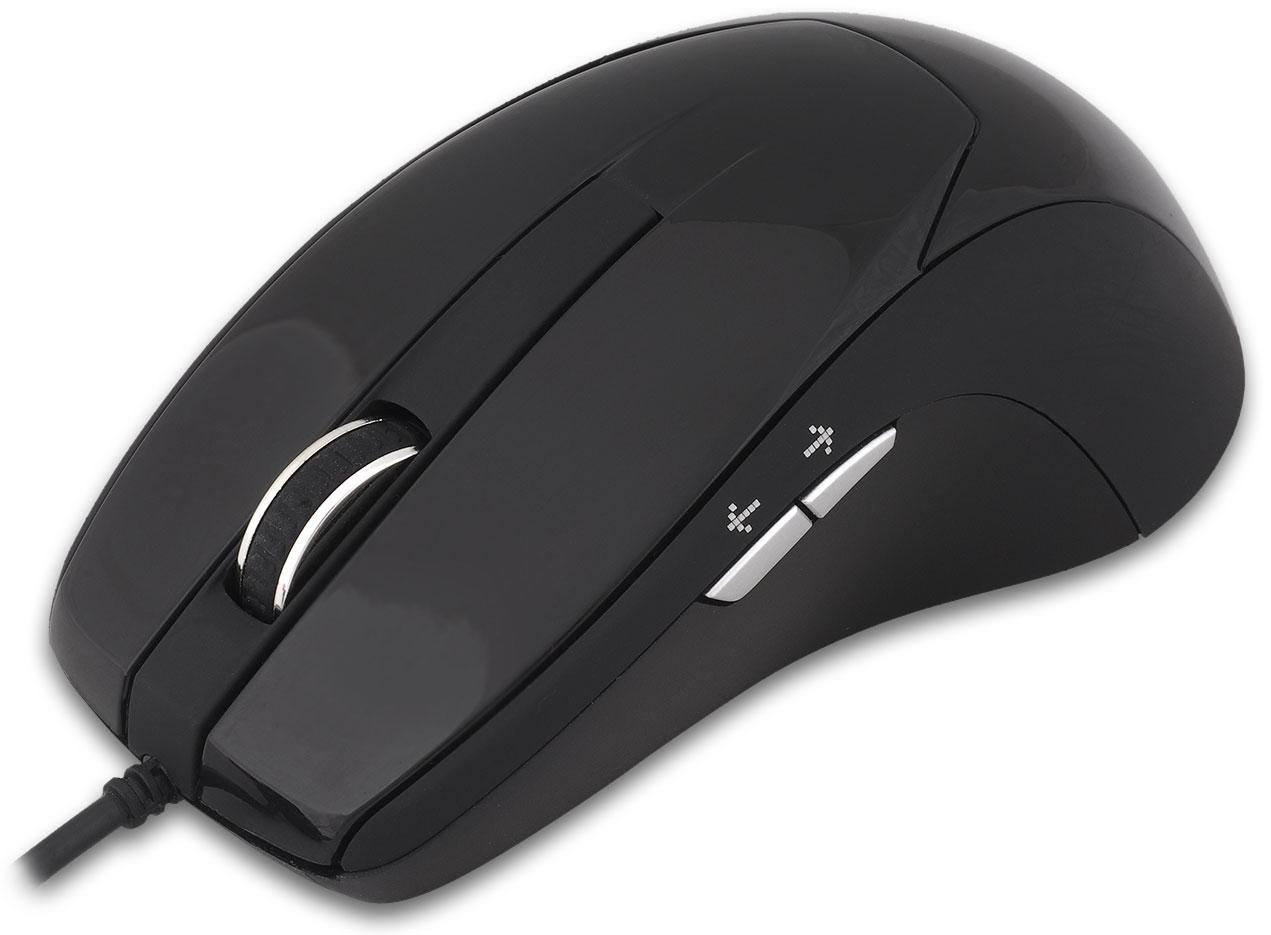computer mouse: (48, 11, 1251, 908)
